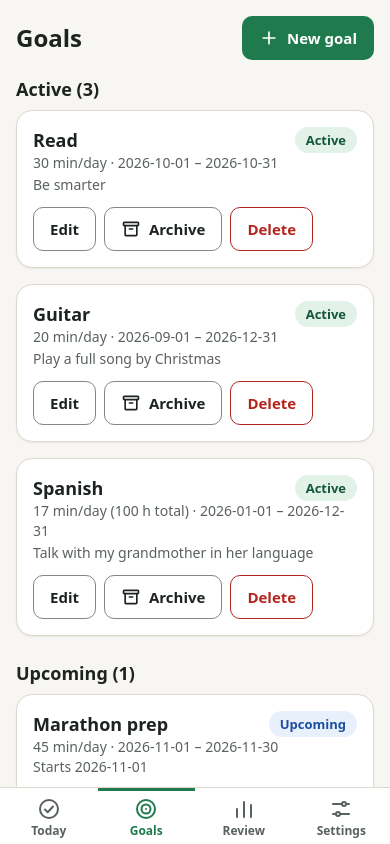
Test: Goals (M1-AC5, M1-AC9, M1-AC18) › delete asks for confirmation; Cancel keeps, Confirm removes goal and entries
Click the button "Delete" below "Read".
click(272, 229)  # box [230, 207, 313, 251]
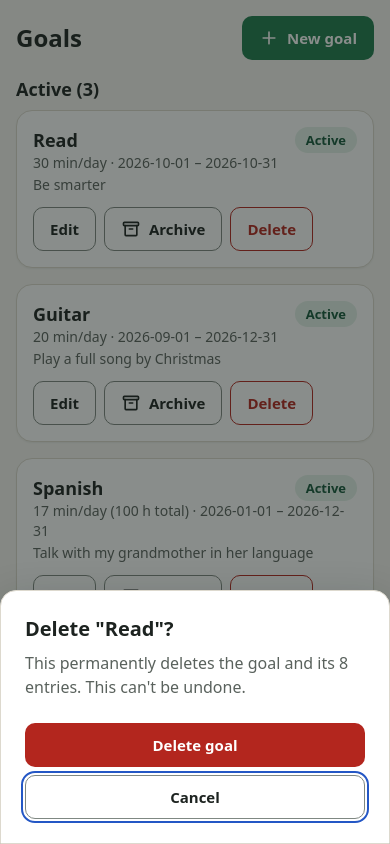
Result: the heading "Delete \"Read\"?" is shown at [25, 615, 173, 642]
Result: the text "This permanently deletes the goal and its 8 entries. This can't be undone." is shown at [25, 651, 365, 699]
Click the button "Cancel".
click(195, 797)  # box [25, 775, 365, 819]
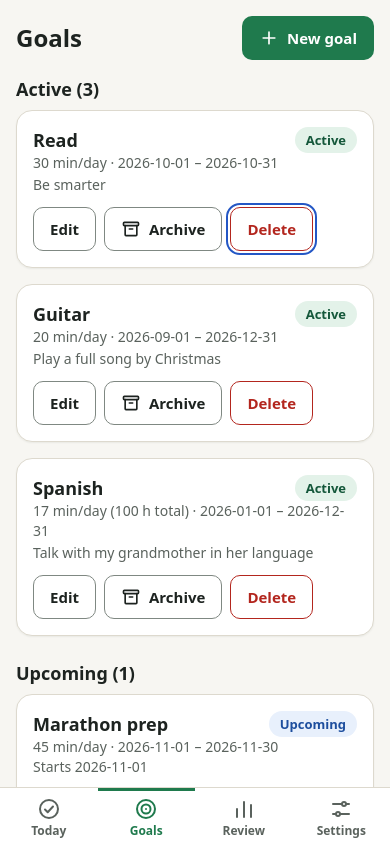
Expected: the heading "Read" is shown, [33, 127, 78, 153]
Click the button "Delete" below "Read".
click(272, 229)  # box [230, 207, 313, 251]
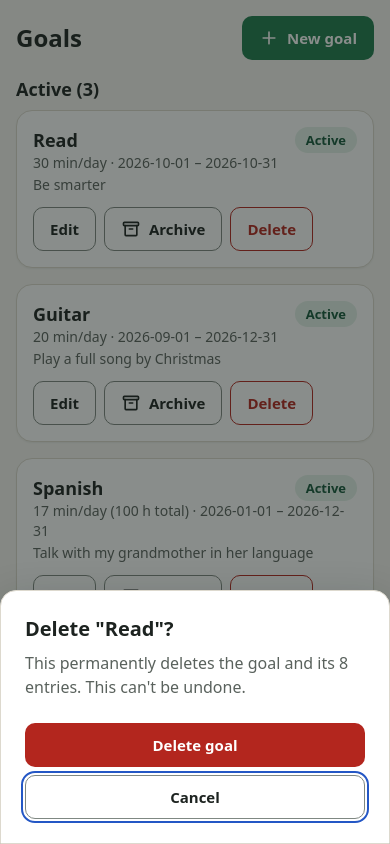
Click the button "Delete goal".
click(195, 745)  # box [25, 723, 365, 767]
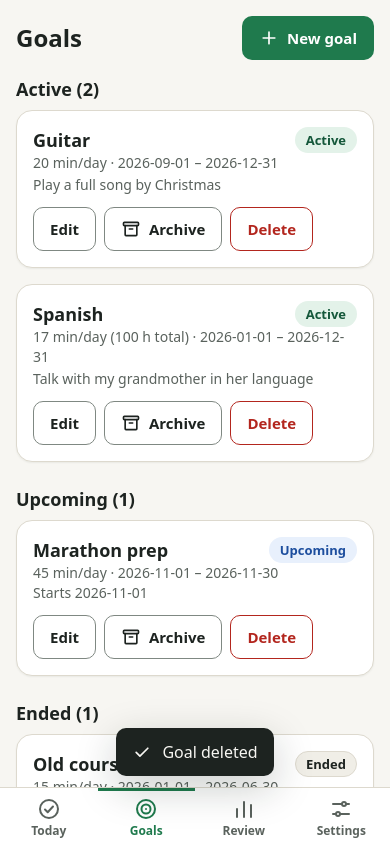
Result: the link "Read" is gone
Result: the message reads "Goal deleted" at [162, 741, 258, 763]
Result: the heading "Active (2)" is shown at [16, 77, 99, 101]
